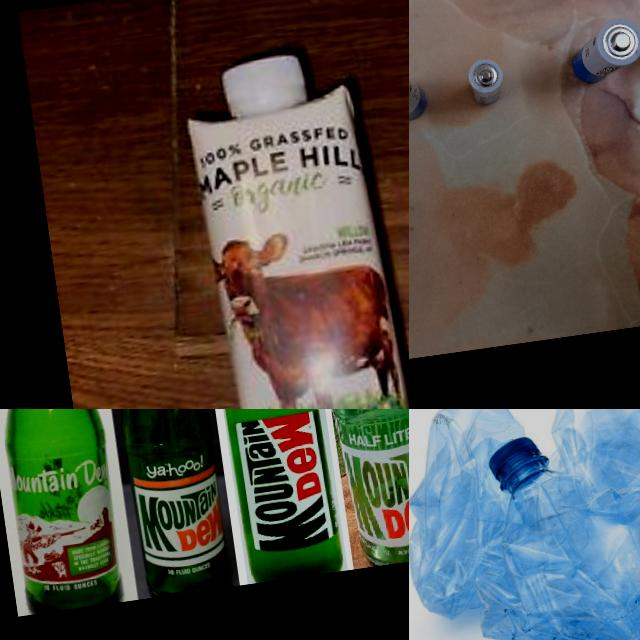bateria: (565, 15, 640, 87), (466, 55, 507, 106), (409, 57, 432, 128)
caixinha: (184, 78, 409, 409)
garrafa de vidro: (198, 409, 345, 583), (0, 409, 123, 615), (98, 409, 231, 597), (305, 409, 409, 569)
garrafa plástica: (463, 458, 640, 640), (409, 409, 549, 623), (544, 409, 640, 528)
tampa plástica: (221, 52, 312, 121), (486, 434, 541, 479)
